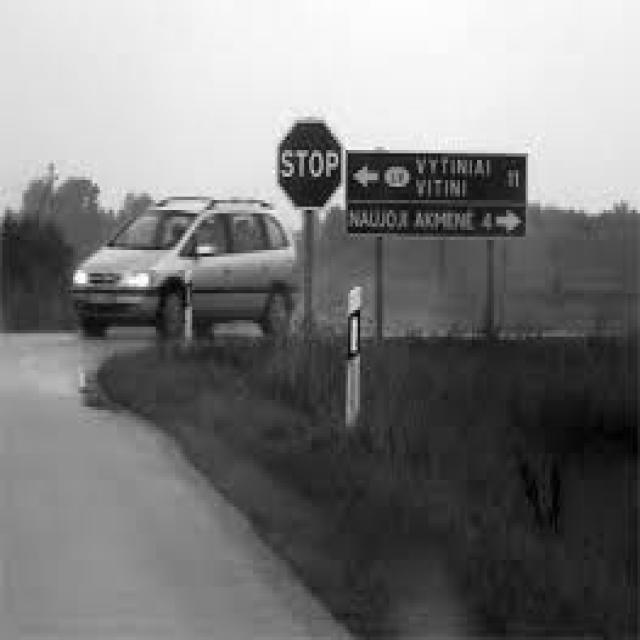stop sign: (276, 112, 344, 212)
